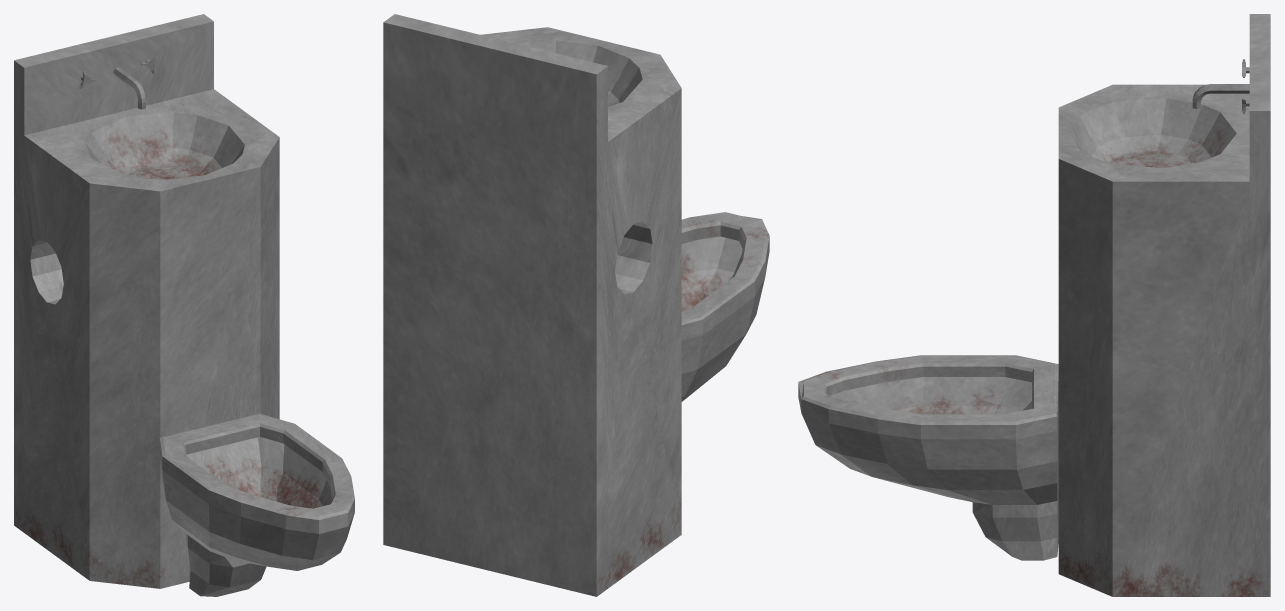
File: toilet.fbx
3 renders of one model, left to right at view 1: azimuth 30°, elevation 25°; view 2: azimuth 150°, elevation 25°; view 3: azimuth 270°, elevation 25°, orthographic. The views are drawn at different scales.
Visible parts, largest first — view 1: toilet; view 2: toilet; view 3: toilet.
Boxes of the visible parts, bbox=[...] form: toilet: bbox=[14, 14, 354, 596]; toilet: bbox=[383, 14, 769, 596]; toilet: bbox=[798, 14, 1270, 596].
Size of the model in its own units: 2.36 by 5.53 by 4.87.
Materials: 1 (1 with a texture image).
